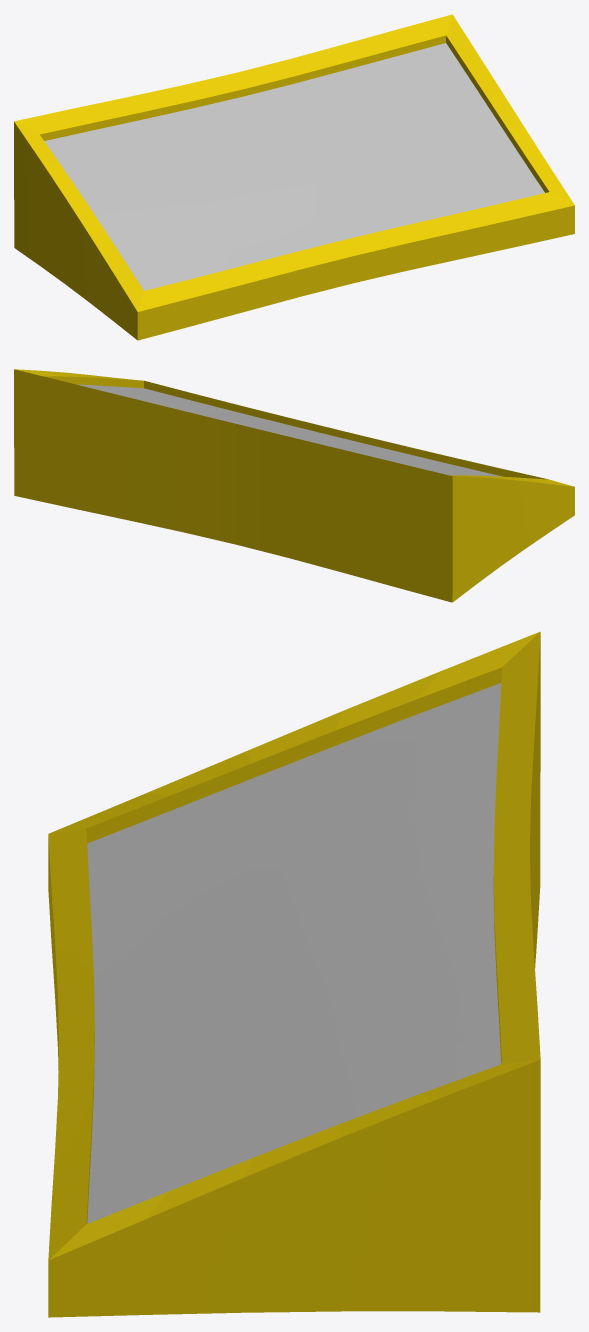
Rendered from doc_stand.fbx.
3 views of the same model, one above another, from view 1: azimuth 30°, elevation 25°; view 2: azimuth 150°, elevation 25°; view 3: azimuth 270°, elevation 25° (orthographic). The views are drawn at different scales.
Parts seen in each view (by area): view 1: Cube.008; view 2: Cube.008; view 3: Cube.008.
Part boxes in pixels (<box>): Cube.008: <box>14,14,574,340</box>; Cube.008: <box>14,369,574,602</box>; Cube.008: <box>48,631,540,1317</box>.
Bounding box in the file's own units: 316 × 89.14 × 154.
